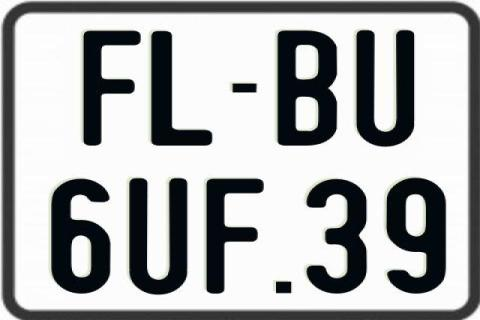0: (48, 177, 112, 295), (386, 175, 446, 296), (308, 180, 368, 298)
B: (278, 28, 338, 145)
F: (82, 29, 141, 148), (204, 177, 262, 297)
L: (149, 30, 213, 148)
U: (356, 30, 420, 150), (129, 176, 188, 294)
